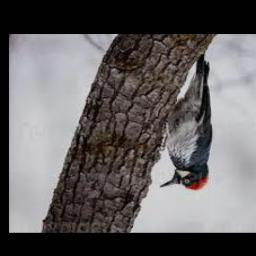Woodpecker: (159, 53, 212, 191)
